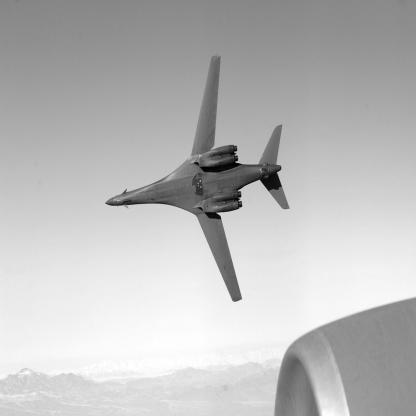B1: (106, 56, 291, 303)
